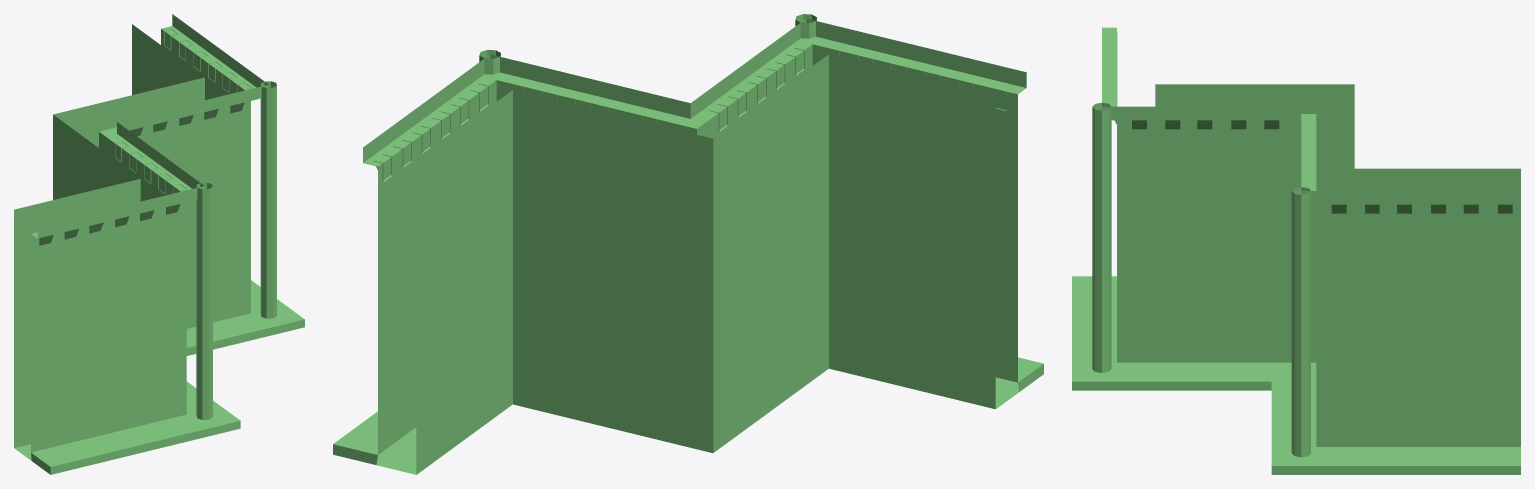
The model's file is Bld3_Wall_Cor2.fbx.
The picture shows the model from 3 angles, left to right: view 1: azimuth 30°, elevation 25°; view 2: azimuth 150°, elevation 25°; view 3: azimuth 270°, elevation 25°; orthographic projection. The views are drawn at different scales.
Parts seen in each view (by area): view 1: Bld3_Wall_Cor2; view 2: Bld3_Wall_Cor2; view 3: Bld3_Wall_Cor2.
Part boxes in pixels (bbox=[...]): Bld3_Wall_Cor2: bbox=[14, 14, 304, 474]; Bld3_Wall_Cor2: bbox=[333, 14, 1043, 474]; Bld3_Wall_Cor2: bbox=[1072, 27, 1520, 474].
Size of the model in its own units: 675 by 450 by 675.
